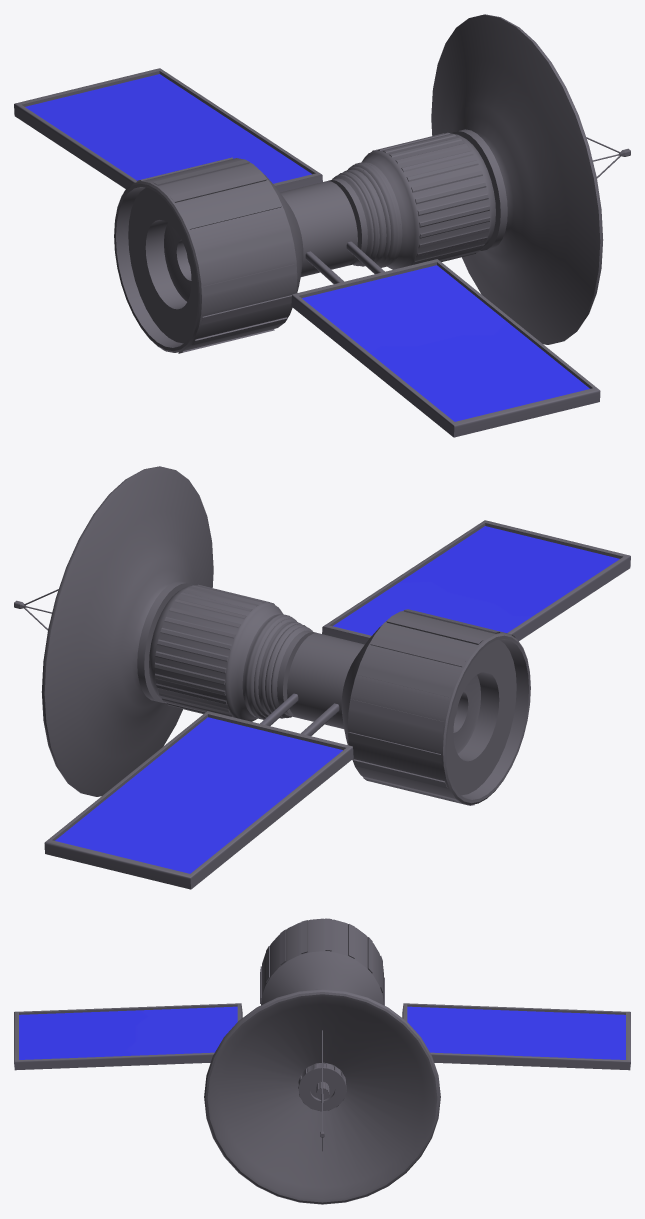
Rendered from Satellite.obj.
3 views of the same model, one above another, from view 1: azimuth 30°, elevation 25°; view 2: azimuth 150°, elevation 25°; view 3: azimuth 270°, elevation 25° (orthographic). The views are drawn at different scales.
Visible parts, largest first — view 1: Satélite_Cylinder.004, Placas_Cylinder.001, Couro_Cylinder; view 2: Satélite_Cylinder.004, Placas_Cylinder.001, Couro_Cylinder; view 3: Satélite_Cylinder.004, Placas_Cylinder.001.
Part boxes in pixels (x1,y1,x2,y2): Satélite_Cylinder.004: [114, 14, 618, 353]; Placas_Cylinder.001: [14, 68, 600, 437]; Couro_Cylinder: [332, 162, 402, 267]; Satélite_Cylinder.004: [26, 466, 530, 805]; Placas_Cylinder.001: [44, 520, 630, 889]; Couro_Cylinder: [242, 614, 312, 719]; Satélite_Cylinder.004: [204, 918, 440, 1204]; Placas_Cylinder.001: [14, 1003, 630, 1070].
Bounding box in the file's own units: 6.21 × 3.85 × 10.02.
